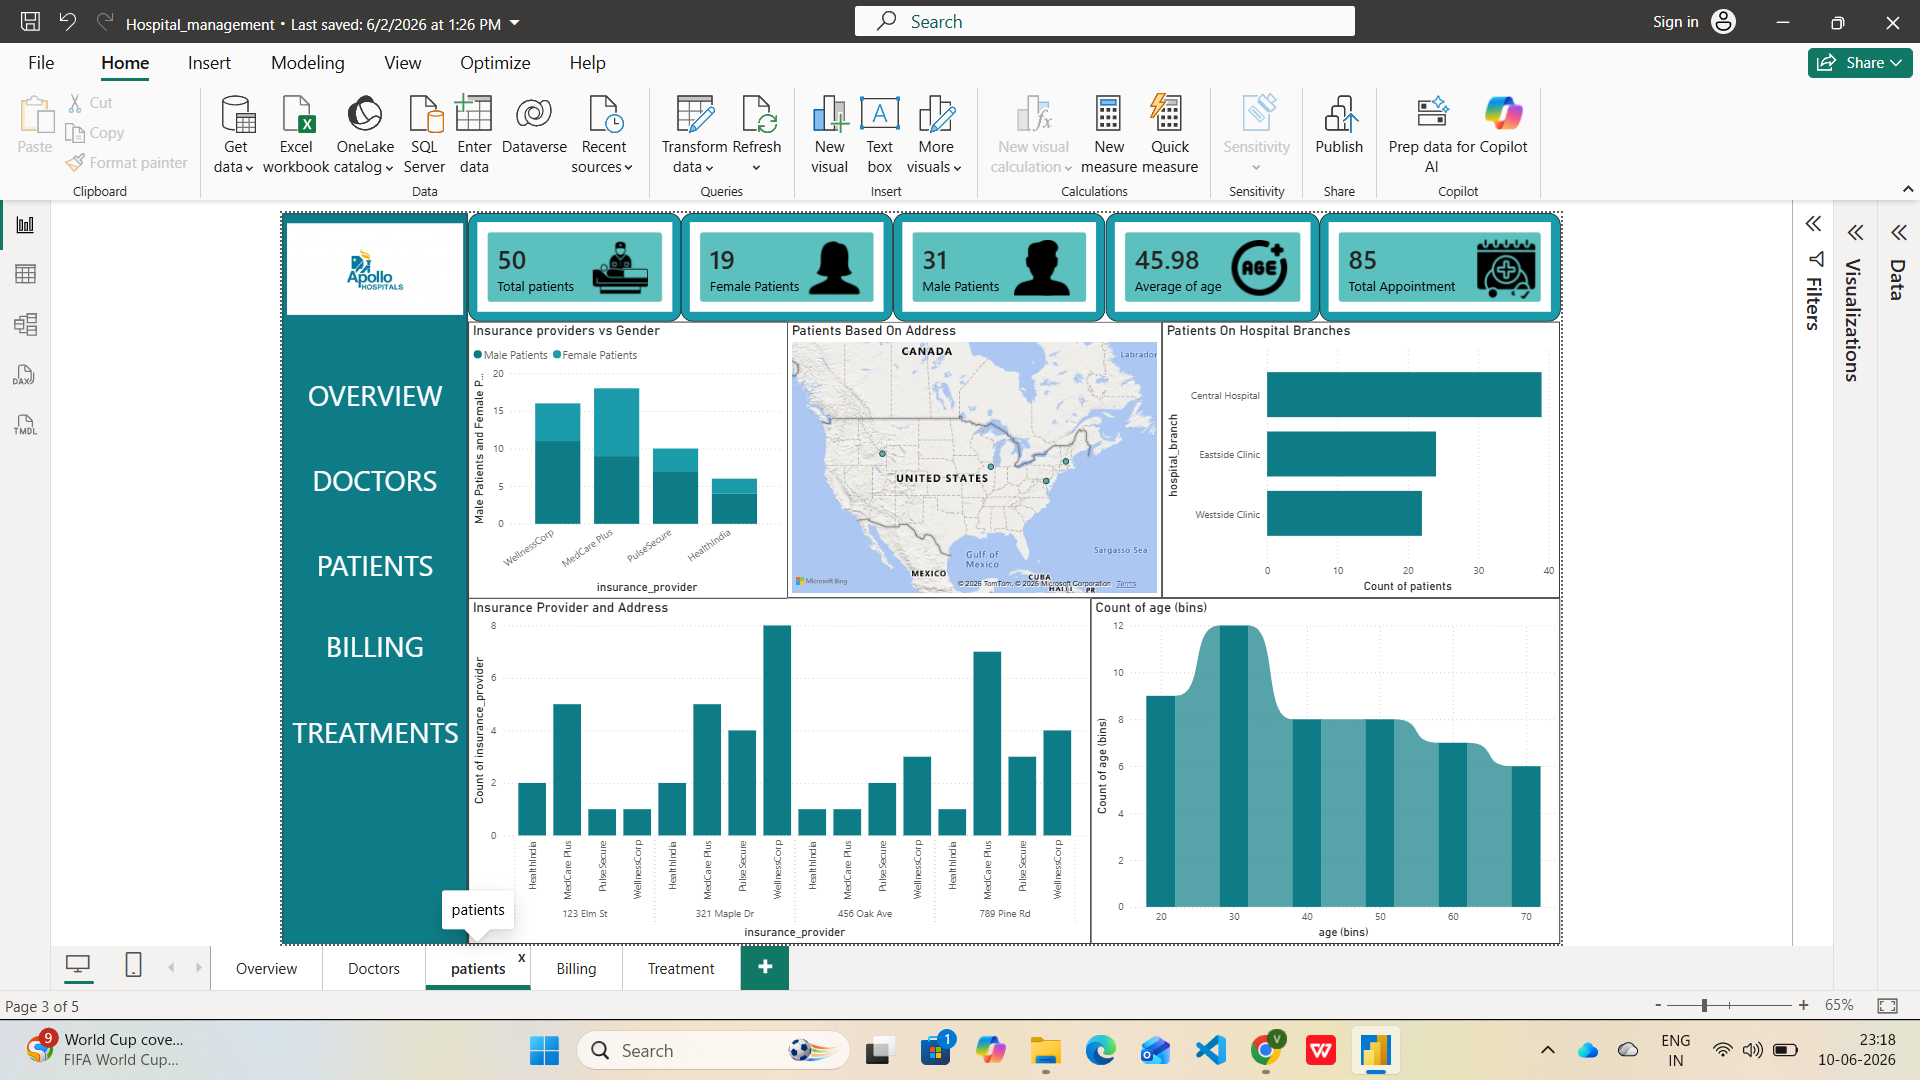

This screenshot's page, from the dashboard's own definition file:
{"tool":"powerbi","page":{"name":"patients","canvas":[1575,900],"ordinal":2},"visuals":[{"type":"shape","box":[0,0,229,900.3],"z":0},{"type":"image","box":[6.8,5.1,216.9,128.8],"z":1000},{"type":"actionButton","box":[0,195.3,229.7,51.6],"z":2000},{"type":"actionButton","box":[0,300,229,51],"z":3000},{"type":"actionButton","box":[0,405.1,229,51],"z":4000},{"type":"actionButton","box":[0,505.1,229,51],"z":5000},{"type":"actionButton","box":[0,610.2,230.5,52.5],"z":6000},{"type":"cardVisual","fields":{"Data":["CountNonNull(hosp patients.patient_id)"]},"box":[228.8,0,262.7,133.9],"z":7000},{"type":"actionButton","box":[378,28.8,98.3,76.3],"z":8000},{"type":"cardVisual","fields":{"Data":["hosp patients.Female Patients"]},"box":[491.5,0,261,133.9],"z":9000},{"type":"cardVisual","fields":{"Data":["hosp patients.Male Patients"]},"box":[752.5,0,261,133.9],"z":10000},{"type":"cardVisual","fields":{"Data":["Avg(hosp patients.age)"]},"box":[1013.6,0,262.7,133.9],"z":11000},{"type":"cardVisual","fields":{"Data":["Count(hosp appointments.appointment_id)"]},"box":[1276.3,0,296.6,133.9],"z":12000},{"type":"columnChart","title":"Insurance providers vs Gender","fields":{"Category":["hosp patients.insurance_provider"],"Y":["hosp patients.Male Patients","hosp patients.Female Patients"]},"box":[228.8,133.9,393.2,340.7],"z":13000},{"type":"map","title":"Patients Based On Address","fields":{"Category":["hosp patients.address"]},"box":[622,135.6,461,339],"z":14000},{"type":"clusteredBarChart","title":"Patients On Hospital Branches","fields":{"Y":["CountNonNull(hosp appointments.patient_id)"],"Category":["hosp doctors.hospital_branch"]},"box":[1083.1,135.6,489.8,339],"z":15000},{"type":"columnChart","title":"Insurance Provider and Address","fields":{"Category":["hosp patients.address","hosp patients.insurance_provider"],"Y":["CountNonNull(hosp patients.insurance_provider)"]},"box":[228.8,474.6,766.1,425.4],"z":16000},{"type":"ribbonChart","title":"Count of age (bins)","fields":{"Category":["hosp patients.age (bins)"],"Y":["CountNonNull(hosp patients.age (bins))"]},"box":[994.9,474.6,578,425.4],"z":17000},{"type":"actionButton","box":[1464.1,25,84.4,87.5],"z":18000},{"type":"actionButton","box":[640.6,28.1,98.4,76.6],"z":19000},{"type":"actionButton","box":[642.2,29.7,98.4,76.6],"z":20000},{"type":"actionButton","box":[896.9,29.7,98.4,76.6],"z":21000},{"type":"actionButton","box":[1164.1,29.7,98.4,76.6],"z":22000}]}

Visuals, with their boxes on the page's 1575x900 design canvas (x1, y1, x2, y2). These are canvas units, not pixel positions in the 1920x1080 screenshot, which may show the page scaled, cropped or inside an application window:
shape: (0,0,229,900)
image: (7,5,224,134)
actionButton: (0,195,230,247)
actionButton: (0,300,229,351)
actionButton: (0,405,229,456)
actionButton: (0,505,229,556)
actionButton: (0,610,230,663)
cardVisual - CountNonNull(hosp patients.patient_id): (229,0,492,134)
actionButton: (378,29,476,105)
cardVisual - hosp patients.Female Patients: (492,0,752,134)
cardVisual - hosp patients.Male Patients: (752,0,1014,134)
cardVisual - Avg(hosp patients.age): (1014,0,1276,134)
cardVisual - Count(hosp appointments.appointment_id): (1276,0,1573,134)
"Insurance providers vs Gender" columnChart: (229,134,622,475)
"Patients Based On Address" map: (622,136,1083,475)
"Patients On Hospital Branches" clusteredBarChart: (1083,136,1573,475)
"Insurance Provider and Address" columnChart: (229,475,995,900)
"Count of age (bins)" ribbonChart: (995,475,1573,900)
actionButton: (1464,25,1548,112)
actionButton: (641,28,739,105)
actionButton: (642,30,741,106)
actionButton: (897,30,995,106)
actionButton: (1164,30,1262,106)
